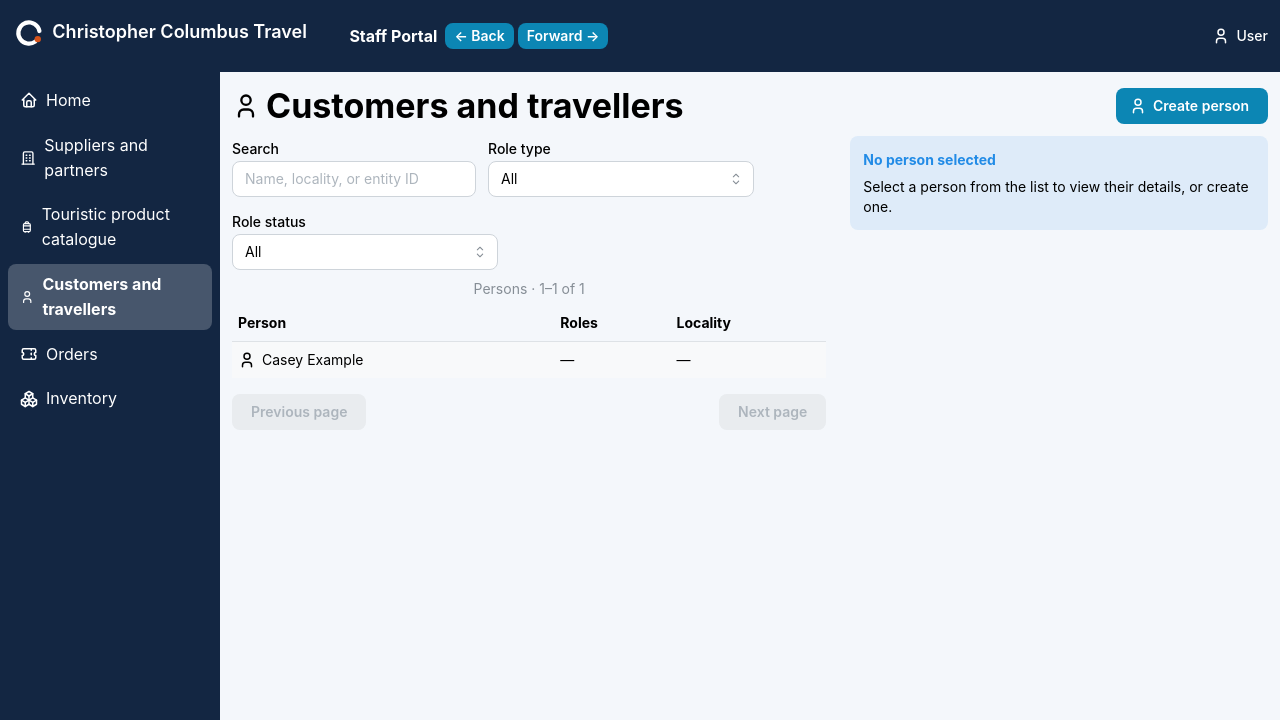
PersonsRoute (VIEW-S-002, issue #29 phase 2) › shows the person's detail inline in the right pane when a row is activated, without navigating away
This screenshot has width=1280, height=720.
Click the text "Casey Example" at (313, 360), box [262, 349, 364, 371]
(page scrolled)
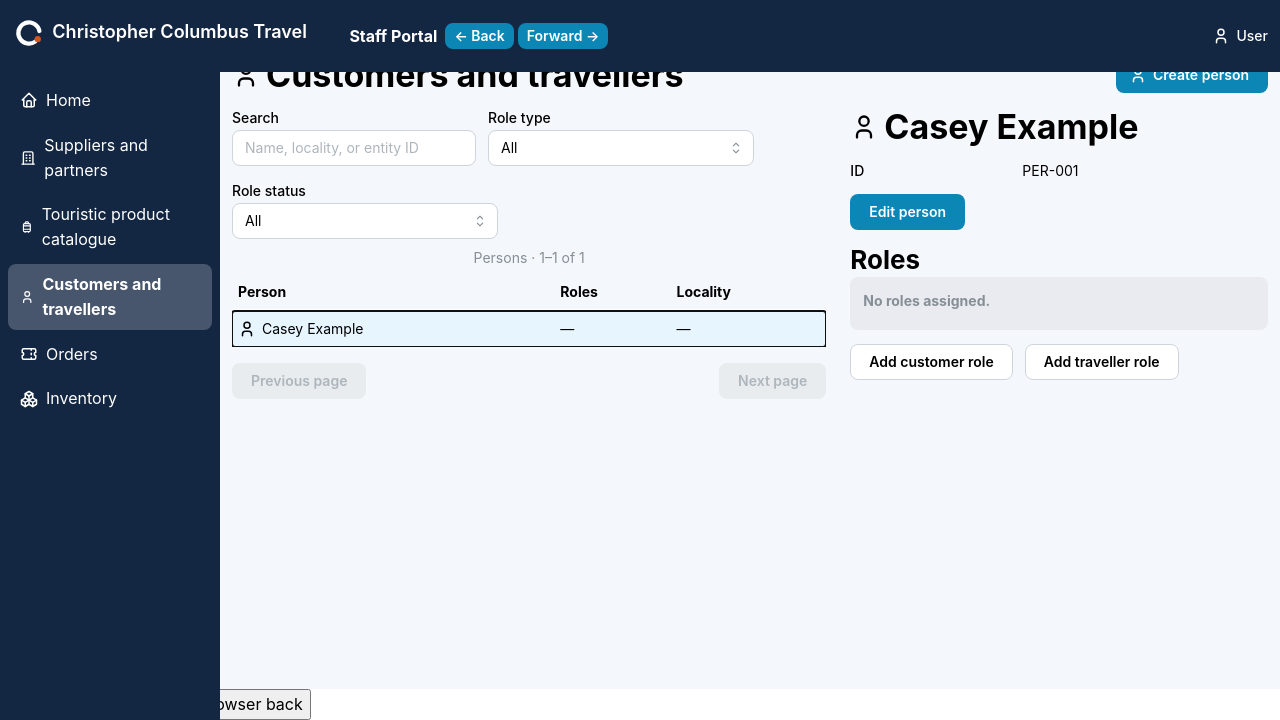
Expected: the heading "Customers and travellers" is shown, [266, 53, 684, 97]
Now the heading "Casey Example" is shown, box [884, 105, 1138, 149]
